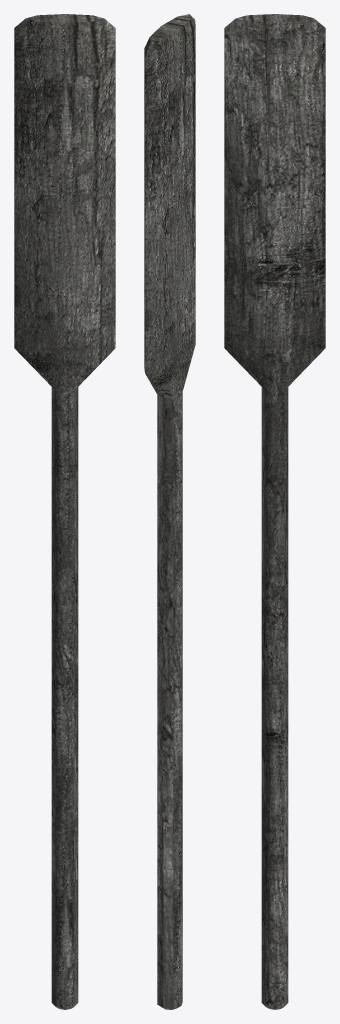
File: mw_paddle.FBX
3 views of the same model, side by side, from view 1: azimuth 90°, elevation 25°; view 2: azimuth 150°, elevation 25°; view 3: azimuth 270°, elevation 25° (orthographic).
Visible parts, largest first — view 1: mw_paddle; view 2: mw_paddle; view 3: mw_paddle.
Part boxes in pixels (box(x1,y1,x2,y2)): mw_paddle: box(14, 14, 115, 1009); mw_paddle: box(144, 14, 195, 1009); mw_paddle: box(224, 14, 325, 1009).
Bounding box in the file's own units: 6.32 × 257 × 23.86.
